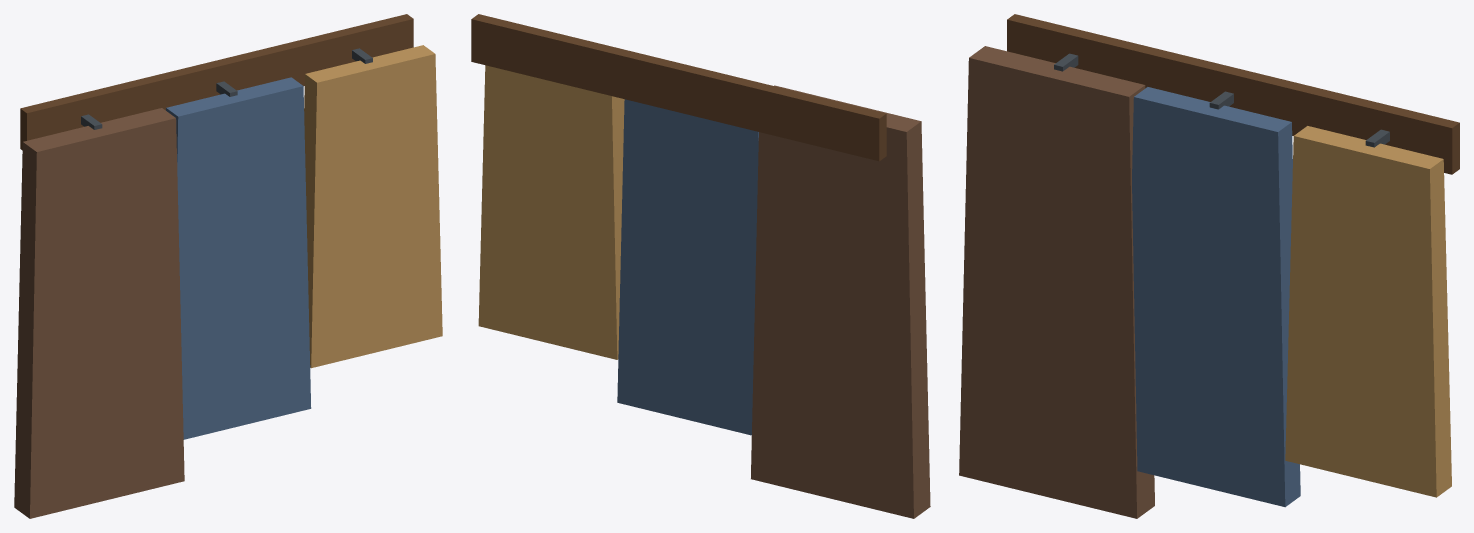
Rendered from GD_CoatHooks_01.glb.
3 renders of one model, left to right at view 1: azimuth 30°, elevation 25°; view 2: azimuth 150°, elevation 25°; view 3: azimuth 330°, elevation 25°, orthographic. The views are drawn at different scales.
Visible parts, largest first — view 1: GD_CoatHooks_01; view 2: GD_CoatHooks_01; view 3: GD_CoatHooks_01.
Part boxes in pixels (x1,y1,x2,y2): GD_CoatHooks_01: (14, 14, 442, 518); GD_CoatHooks_01: (471, 14, 930, 518); GD_CoatHooks_01: (959, 14, 1459, 518).
Size of the model in its own units: 1.07 by 0.95 by 0.13.
Materials: 1 (1 with a texture image).
